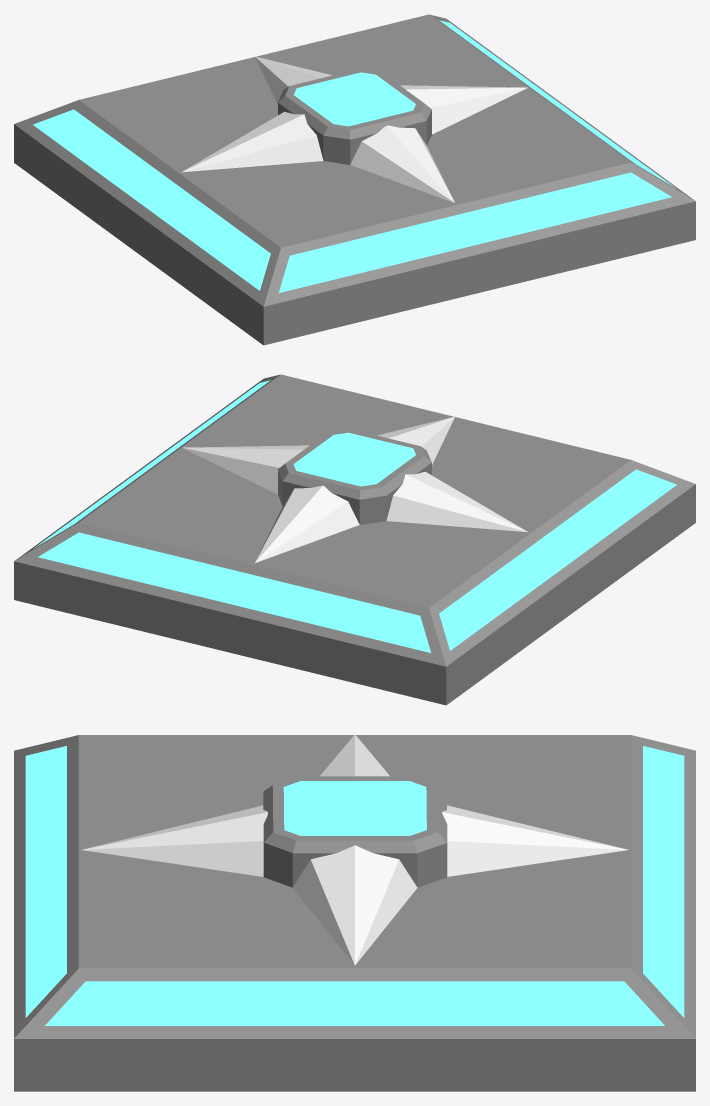
File: way_indicator.fbx
3 renders of one model, top to bottom at view 1: azimuth 30°, elevation 25°; view 2: azimuth 150°, elevation 25°; view 3: azimuth 270°, elevation 25°, orthographic. The views are drawn at different scales.
Parts seen in each view (by area): view 1: Cone.001; view 2: Cone.001; view 3: Cone.001.
Part boxes in pixels (<box>): Cone.001: <box>14,14,695,345</box>; Cone.001: <box>14,374,695,705</box>; Cone.001: <box>14,734,695,1091</box>.
Size of the model in its own units: 187 by 42.05 by 187.
